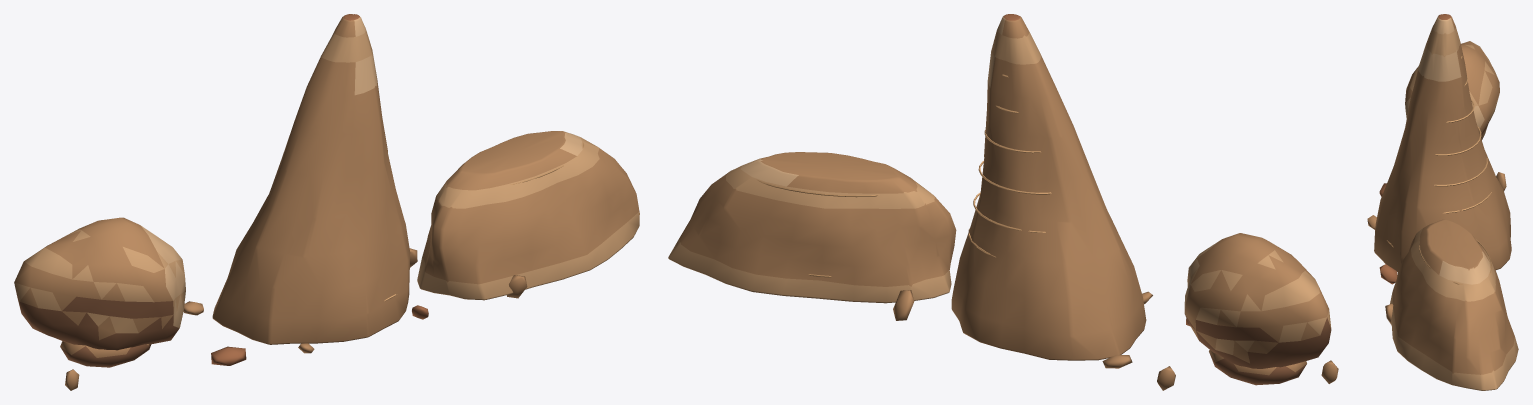
The model's file is sirocco-landmarks.glb.
3 views of the same model, side by side, from view 1: azimuth 30°, elevation 25°; view 2: azimuth 150°, elevation 25°; view 3: azimuth 270°, elevation 25° (orthographic). The views are drawn at different scales.
Parts seen in each view (by area): view 1: PW_WindSpire, PW_ErodedShelf, PW_BalancedStone, PW_BalancedStoneFoot, PW_Scree_00; view 2: PW_WindSpire, PW_ErodedShelf, PW_BalancedStone, PW_BalancedStoneFoot; view 3: PW_WindSpire, PW_ErodedShelf, PW_BalancedStone, PW_Scree_03, PW_SpireStrata_03.
Boxes of the visible parts, bbox=[...] form: PW_WindSpire: bbox=[212, 14, 410, 344]; PW_ErodedShelf: bbox=[417, 131, 639, 300]; PW_BalancedStone: bbox=[14, 217, 185, 350]; PW_BalancedStoneFoot: bbox=[60, 341, 151, 367]; PW_Scree_00: bbox=[211, 346, 246, 365]; PW_WindSpire: bbox=[951, 14, 1146, 360]; PW_ErodedShelf: bbox=[668, 152, 956, 303]; PW_BalancedStone: bbox=[1184, 233, 1331, 368]; PW_BalancedStoneFoot: bbox=[1209, 350, 1306, 385]; PW_WindSpire: bbox=[1374, 14, 1511, 272]; PW_ErodedShelf: bbox=[1390, 219, 1518, 390]; PW_BalancedStone: bbox=[1405, 41, 1499, 139]; PW_Scree_03: bbox=[1379, 264, 1397, 284]; PW_SpireStrata_03: bbox=[1434, 157, 1487, 186].
Size of the model in its own units: 18.24 by 8.18 by 4.42.
